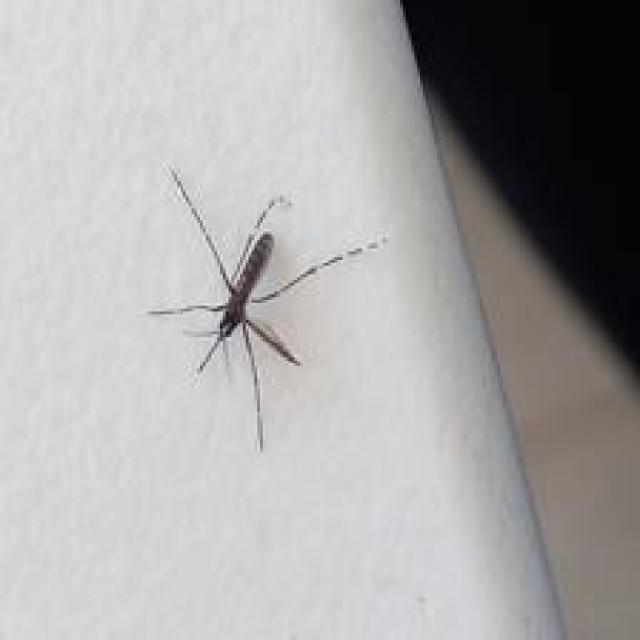Aedes albopictus: (144, 163, 390, 451)
